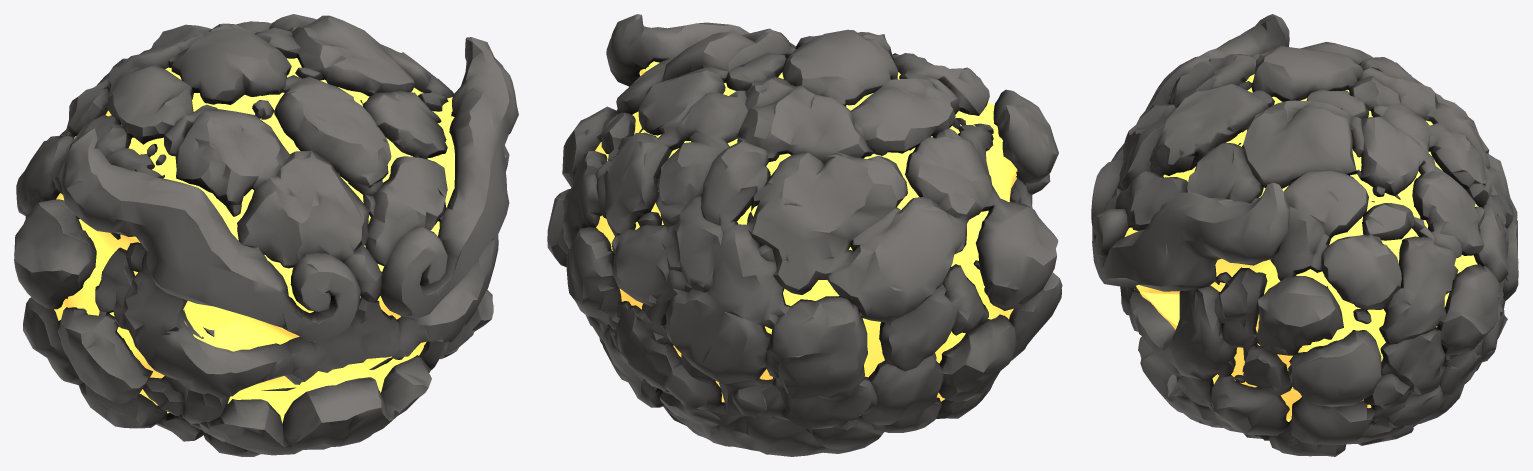
Rendered from meteor_base.glb.
3 renders of one model, left to right at view 1: azimuth 30°, elevation 25°; view 2: azimuth 150°, elevation 25°; view 3: azimuth 270°, elevation 25°, orthographic. The views are drawn at different scales.
Parts seen in each view (by area): view 1: Rock, Core; view 2: Rock, Core; view 3: Rock, Core.
Part boxes in pixels (left/top/right/bottom): Rock: left=14, top=14, right=518, bottom=456; Core: left=54, top=58, right=454, bottom=423; Rock: left=547, top=14, right=1062, bottom=456; Core: left=595, top=61, right=1017, bottom=415; Rock: left=1091, top=14, right=1518, bottom=456; Core: left=1124, top=74, right=1478, bottom=421.
Size of the model in its own units: 0.9996 by 0.7769 by 0.8409.
2 materials, 1 textured.
